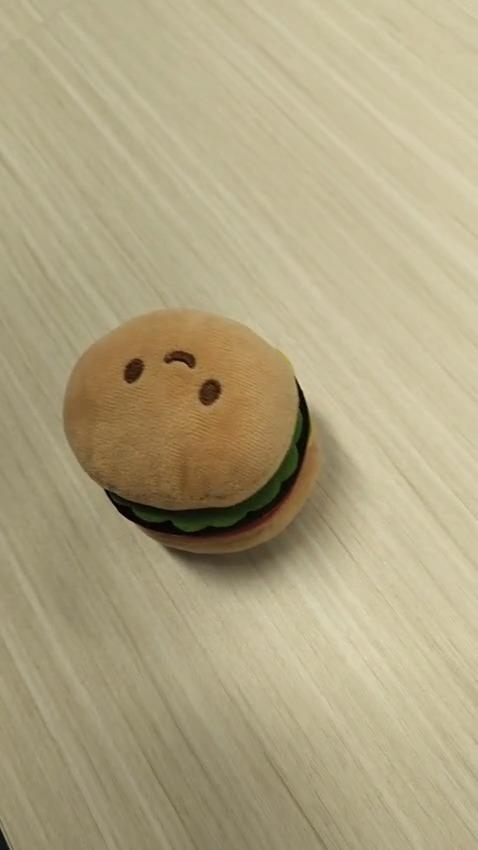hamburger: (61, 305, 321, 556)
